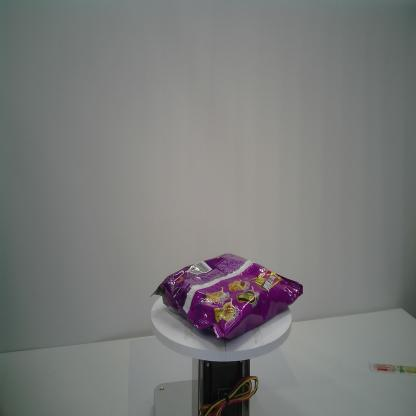Instant Noodles: (150, 250, 304, 344)
